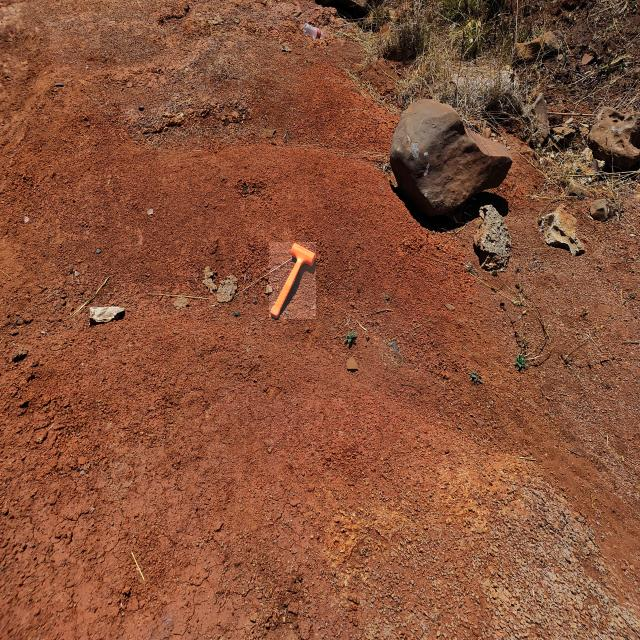Orange_hammer: (269, 242, 316, 319)
